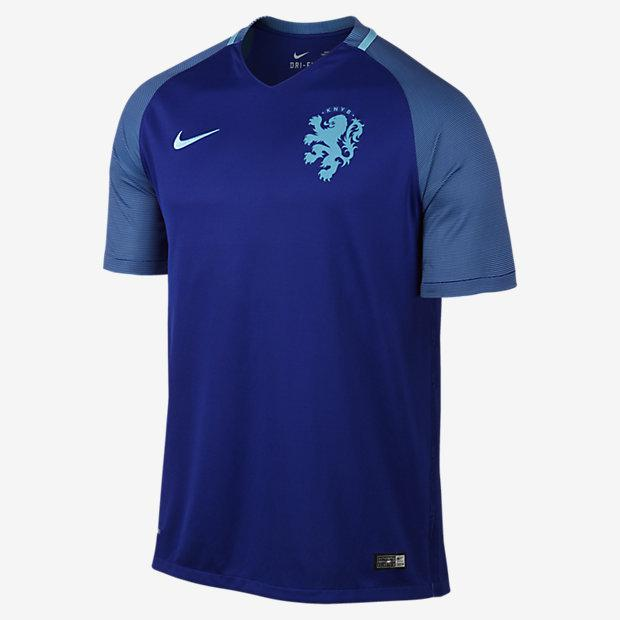teeshirt: (82, 11, 562, 620)
